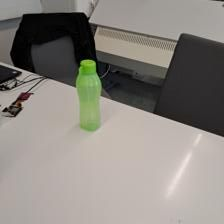bottle: (75, 56, 102, 132)
